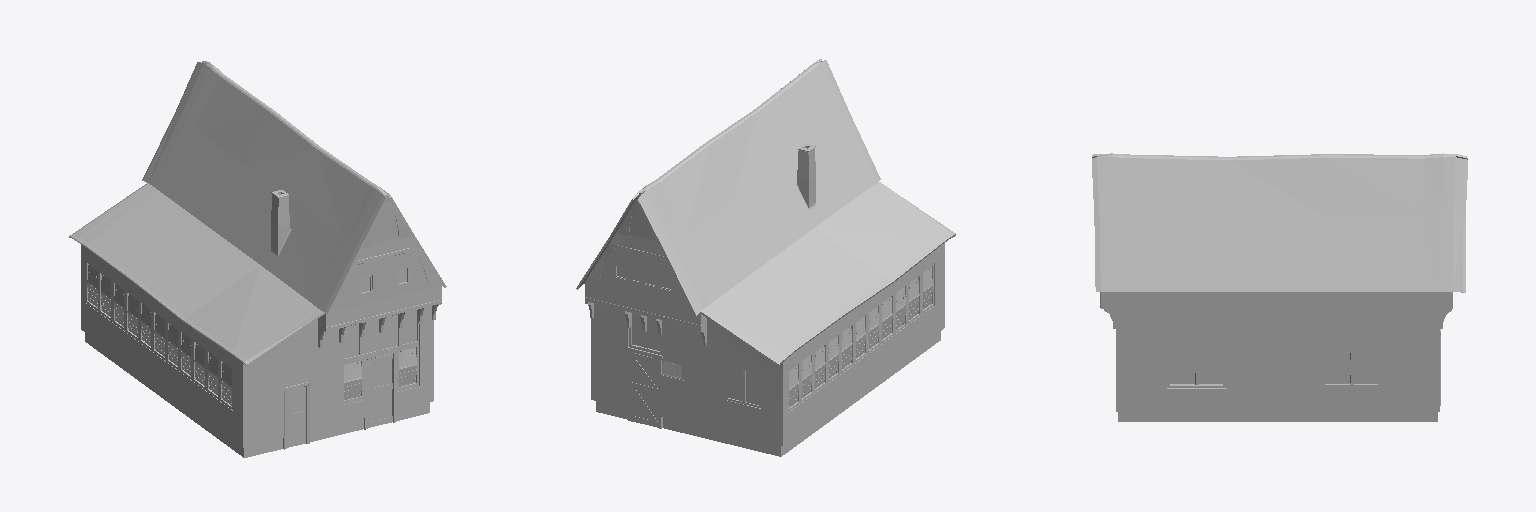
File: medieval_simple_house.obj
3 renders of one model, left to right at view 1: azimuth 30°, elevation 25°; view 2: azimuth 150°, elevation 25°; view 3: azimuth 270°, elevation 25°, orthographic.
Visible parts, largest first — view 1: Base_building_Cube.001, Window_frame_left_Cube.011, Window_front_Plane, Door_base_Cube.003, Chimney_Cube.093, Ornament_top_front_Cube.075, Door_base.002_Cube.045; view 2: Base_building_Cube.001, Window_frame_left_Cube.011, Door_base.001_Cube.039, Chimney_Cube.093, Window_back.003_Plane.004, Window_back_Plane.002, Ornament_top_rear_Cube.076; view 3: Base_building_Cube.001, Window_back.001_Plane.007, Window_back.002_Plane.008, Window_frame_right.001_Cube.013, Window_frame_right_Cube.012.
Boxes of the visible parts, <box> form: Base_building_Cube.001: <box>69,61,446,457</box>; Window_frame_left_Cube.011: <box>86,261,232,409</box>; Window_front_Plane: <box>343,310,416,358</box>; Door_base_Cube.003: <box>368,359,391,427</box>; Chimney_Cube.093: <box>270,190,291,255</box>; Ornament_top_front_Cube.075: <box>334,197,437,304</box>; Door_base.002_Cube.045: <box>287,390,305,447</box>; Base_building_Cube.001: <box>576,59,955,456</box>; Window_frame_left_Cube.011: <box>788,264,933,411</box>; Door_base.001_Cube.039: <box>632,355,657,427</box>; Chimney_Cube.093: <box>796,143,816,209</box>; Window_back.003_Plane.004: <box>727,366,759,405</box>; Window_back_Plane.002: <box>632,313,659,350</box>; Ornament_top_rear_Cube.076: <box>589,194,686,300</box>; Base_building_Cube.001: <box>1092,153,1467,421</box>; Window_back.001_Plane.007: <box>1325,351,1377,383</box>; Window_back.002_Plane.008: <box>1170,352,1222,383</box>; Window_frame_right.001_Cube.013: <box>1322,349,1381,388</box>; Window_frame_right_Cube.012: <box>1167,349,1226,387</box>.
Size of the model in its own units: 5.94 by 6.9 by 9.76.